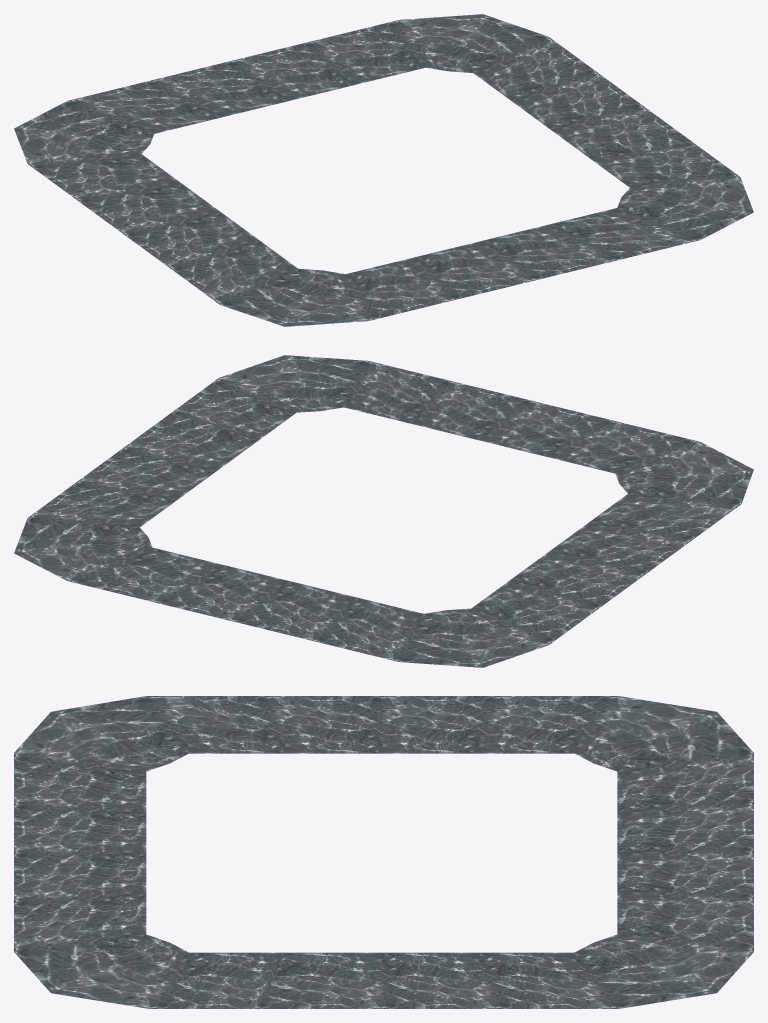
The model's file is Loft06.obj.
The picture shows the model from 3 angles, top to bottom: view 1: azimuth 30°, elevation 25°; view 2: azimuth 150°, elevation 25°; view 3: azimuth 270°, elevation 25°; orthographic projection. The views are drawn at different scales.
Parts seen in each view (by area): view 1: Loft06; view 2: Loft06; view 3: Loft06.
Part boxes in pixels (box(x1,y1,x2,y2)): Loft06: box(14, 14, 753, 326); Loft06: box(14, 355, 753, 667); Loft06: box(14, 696, 753, 1008).
Size of the model in its own units: 440 by 1.53e-05 by 440.
